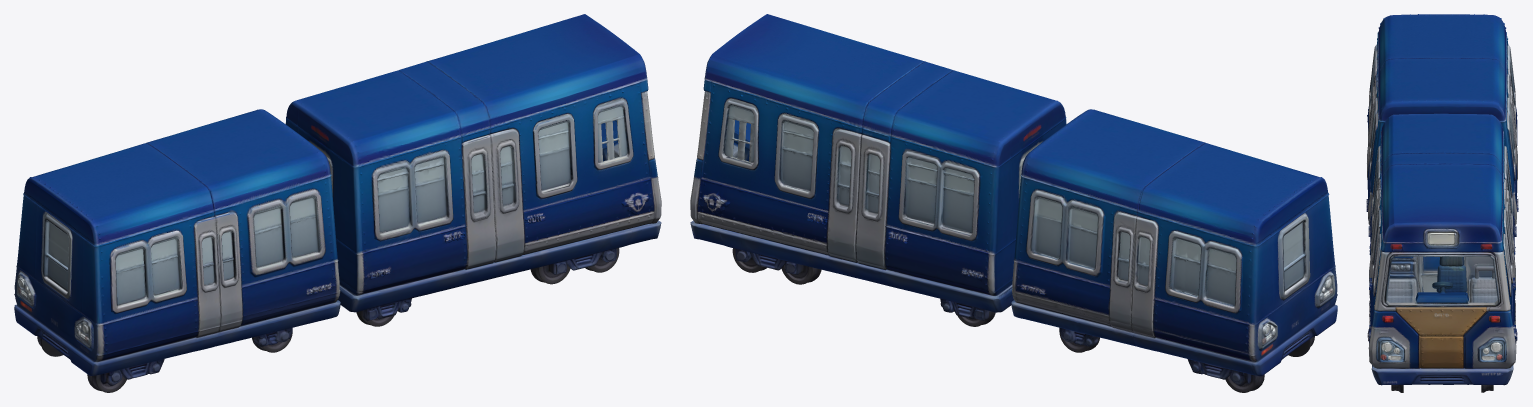
The model's file is train2.glb.
3 views of the same model, side by side, from view 1: azimuth 30°, elevation 25°; view 2: azimuth 150°, elevation 25°; view 3: azimuth 270°, elevation 25° (orthographic). The views are drawn at different scales.
Visible parts, largest first — view 1: tripo_node_7f65e59d-5584-4487-a14b-b3dced199c5e; view 2: tripo_node_7f65e59d-5584-4487-a14b-b3dced199c5e; view 3: tripo_node_7f65e59d-5584-4487-a14b-b3dced199c5e.
Part boxes in pixels (bbox=[...]): tripo_node_7f65e59d-5584-4487-a14b-b3dced199c5e: bbox=[14, 14, 661, 392]; tripo_node_7f65e59d-5584-4487-a14b-b3dced199c5e: bbox=[690, 14, 1337, 392]; tripo_node_7f65e59d-5584-4487-a14b-b3dced199c5e: bbox=[1366, 14, 1518, 392].
Size of the model in its own units: 0.9784 by 0.3448 by 0.2568.
Materials: 1 (1 with a texture image).
